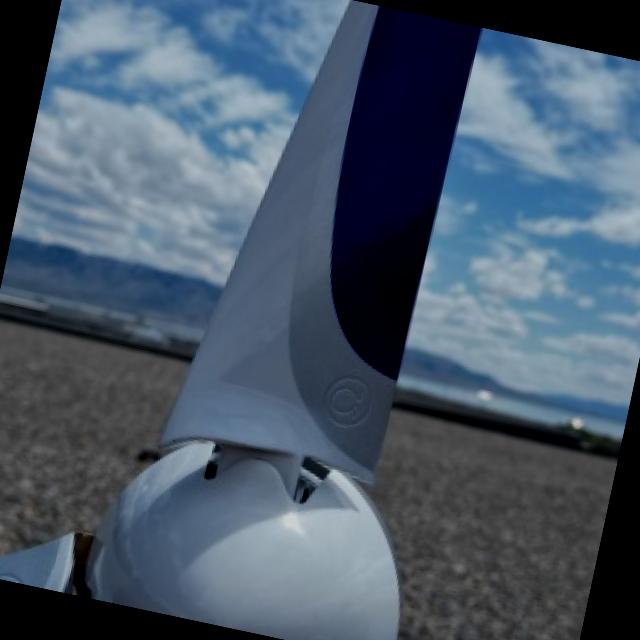healthy: (0, 4, 483, 640), (402, 520, 587, 640)
